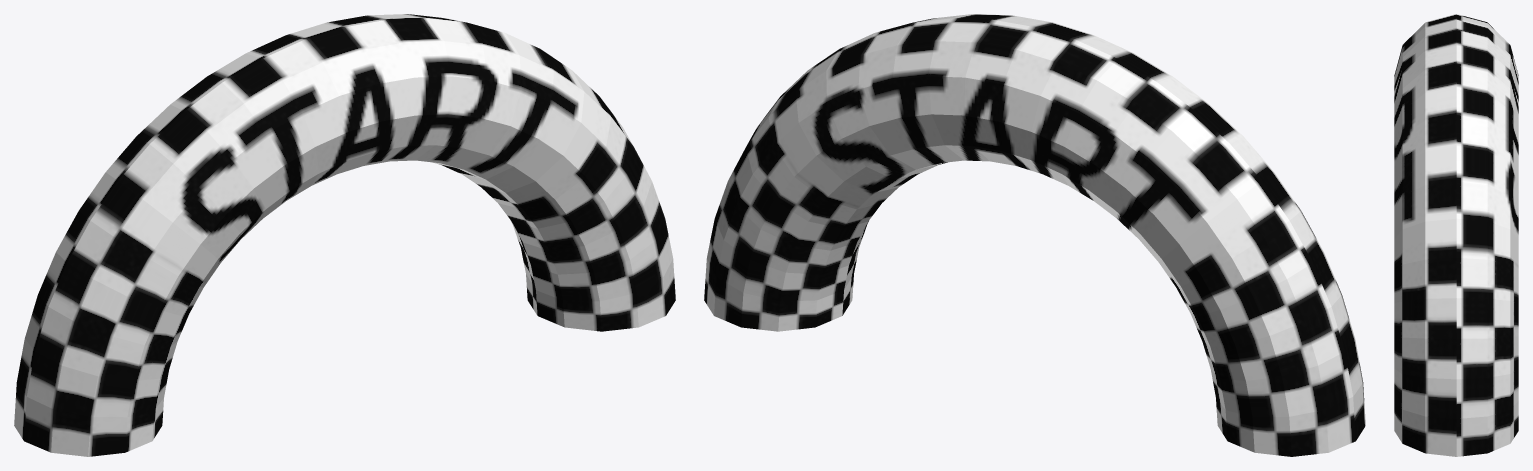
File: start.glb
3 renders of one model, left to right at view 1: azimuth 30°, elevation 25°; view 2: azimuth 150°, elevation 25°; view 3: azimuth 270°, elevation 25°, orthographic. The views are drawn at different scales.
Parts seen in each view (by area): view 1: Torus; view 2: Torus; view 3: Torus.
Boxes of the visible parts, box(x1,y1,x2,y2) form: Torus: box(14, 14, 675, 456); Torus: box(704, 14, 1365, 456); Torus: box(1394, 14, 1518, 456).
Bounding box in the file's own units: 17.05 × 8.53 × 3.41.
1 material, 1 textured.
